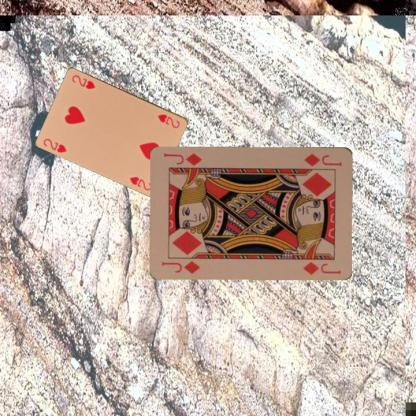2h: (41, 136, 68, 154), (156, 112, 182, 130)
Jd: (302, 150, 343, 167), (160, 258, 202, 274)
